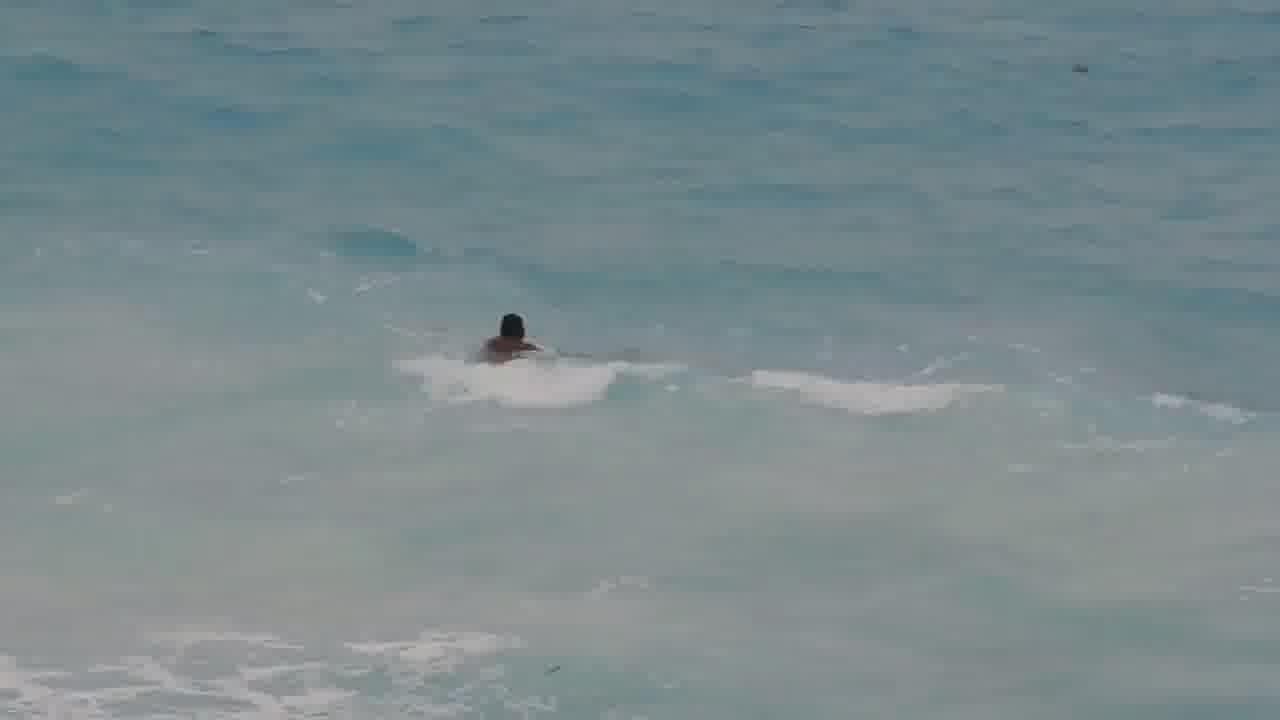human: (477, 307, 538, 359)
